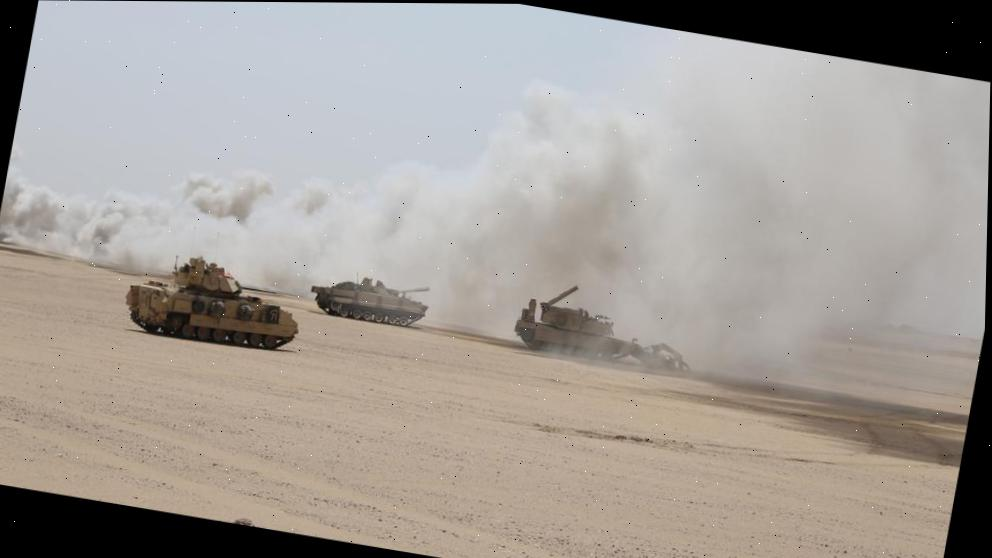tank: (118, 245, 310, 360), (508, 275, 648, 371), (305, 266, 433, 333)
